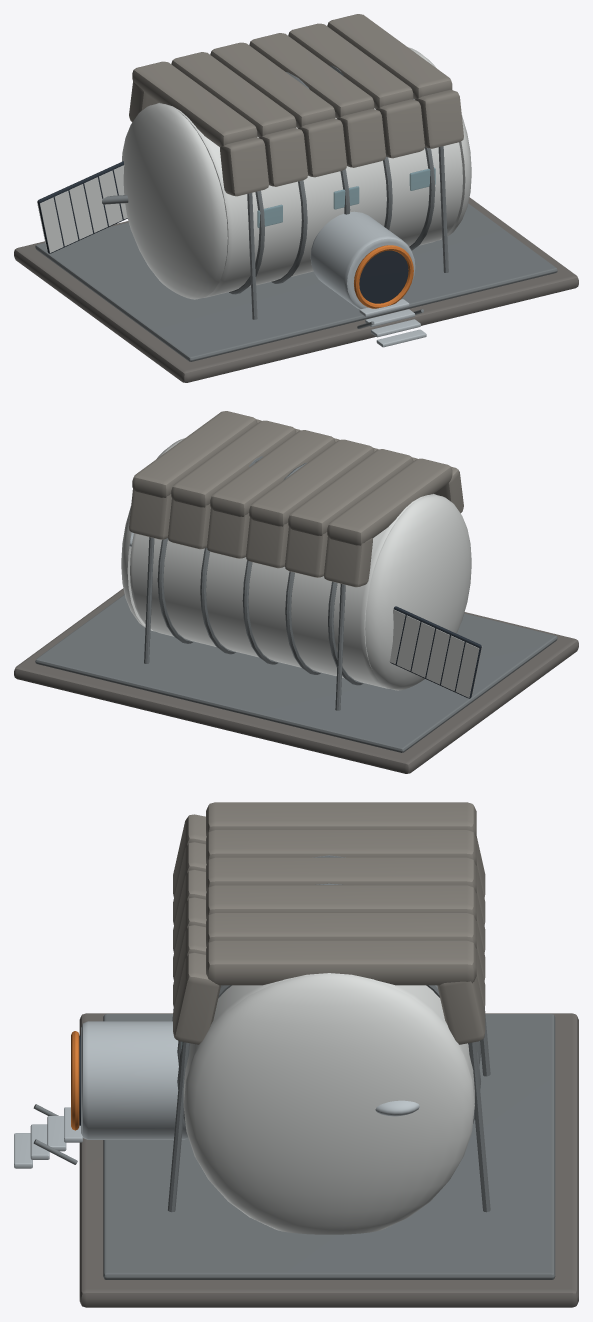
The model's file is habitat.glb.
3 views of the same model, one above another, from view 1: azimuth 30°, elevation 25°; view 2: azimuth 150°, elevation 25°; view 3: azimuth 270°, elevation 25° (orthographic). The views are drawn at different scales.
Visible parts, largest first — view 1: RenderBatch_Habitat_HAB_ThermalWhite, RenderBatch_Habitat_HAB_Frame, Habitat_Foundation, RenderBatch_Habitat_Shield_01_HAB_Regolith, RenderBatch_Habitat_HAB_Body, RenderBatch_Habitat_Shield_02_HAB_Regolith, RenderBatch_Habitat_Shield_06_HAB_Regolith, RenderBatch_Habitat_Shield_03_HAB_Regolith, RenderBatch_Habitat_Shield_05_HAB_Regolith, RenderBatch_Habitat_Shield_04_HAB_Regolith, Detail_Habitat_Radiator, Habitat_AirlockDoor (+2 smaller); view 2: RenderBatch_Habitat_HAB_ThermalWhite, RenderBatch_Habitat_HAB_Frame, Habitat_Foundation, RenderBatch_Habitat_Shield_01_HAB_Regolith, RenderBatch_Habitat_Shield_03_HAB_Regolith, RenderBatch_Habitat_Shield_06_HAB_Regolith, RenderBatch_Habitat_Shield_02_HAB_Regolith, RenderBatch_Habitat_Shield_05_HAB_Regolith, RenderBatch_Habitat_Shield_04_HAB_Regolith, Detail_Habitat_Radiator, Habitat_Radiator; view 3: RenderBatch_Habitat_HAB_ThermalWhite, RenderBatch_Habitat_HAB_Frame, Habitat_Foundation, RenderBatch_Habitat_Shield_06_HAB_Regolith, RenderBatch_Habitat_HAB_Body, RenderBatch_Habitat_Shield_05_HAB_Regolith, RenderBatch_Habitat_Shield_01_HAB_Regolith, RenderBatch_Habitat_Shield_04_HAB_Regolith, RenderBatch_Habitat_Shield_03_HAB_Regolith, RenderBatch_Habitat_Shield_02_HAB_Regolith, Habitat_AirlockSeal.
Part boxes in pixels (x1,y1,x2,y2): RenderBatch_Habitat_HAB_ThermalWhite: (121, 47, 471, 299); RenderBatch_Habitat_HAB_Frame: (35, 65, 557, 361); Habitat_Foundation: (14, 197, 578, 382); RenderBatch_Habitat_Shield_01_HAB_Regolith: (129, 61, 268, 196); RenderBatch_Habitat_HAB_Body: (310, 211, 426, 347); RenderBatch_Habitat_Shield_02_HAB_Regolith: (171, 52, 307, 186); RenderBatch_Habitat_Shield_06_HAB_Regolith: (327, 14, 463, 148); RenderBatch_Habitat_Shield_03_HAB_Regolith: (210, 42, 346, 177); RenderBatch_Habitat_Shield_05_HAB_Regolith: (288, 23, 424, 158); RenderBatch_Habitat_Shield_04_HAB_Regolith: (249, 33, 385, 167); Detail_Habitat_Radiator: (37, 165, 127, 252); Habitat_AirlockDoor: (359, 250, 408, 303); RenderBatch_Habitat_HAB_ThermalWhite: (121, 438, 471, 690); RenderBatch_Habitat_HAB_Frame: (35, 456, 557, 752); Habitat_Foundation: (14, 588, 578, 773); RenderBatch_Habitat_Shield_01_HAB_Regolith: (324, 458, 463, 587); RenderBatch_Habitat_Shield_03_HAB_Regolith: (246, 439, 378, 568); RenderBatch_Habitat_Shield_06_HAB_Regolith: (129, 411, 261, 539); RenderBatch_Habitat_Shield_02_HAB_Regolith: (285, 449, 417, 577); RenderBatch_Habitat_Shield_05_HAB_Regolith: (168, 420, 300, 549); RenderBatch_Habitat_Shield_04_HAB_Regolith: (207, 430, 339, 558); Detail_Habitat_Radiator: (389, 609, 482, 697); Habitat_Radiator: (390, 606, 481, 698); RenderBatch_Habitat_HAB_ThermalWhite: (183, 973, 474, 1234); RenderBatch_Habitat_HAB_Frame: (33, 855, 555, 1279); Habitat_Foundation: (79, 1013, 578, 1307); RenderBatch_Habitat_Shield_06_HAB_Regolith: (173, 940, 485, 1044); RenderBatch_Habitat_HAB_Body: (14, 1021, 419, 1168); RenderBatch_Habitat_Shield_05_HAB_Regolith: (173, 912, 485, 1008); RenderBatch_Habitat_Shield_01_HAB_Regolith: (173, 802, 485, 897); RenderBatch_Habitat_Shield_04_HAB_Regolith: (173, 885, 485, 980); RenderBatch_Habitat_Shield_03_HAB_Regolith: (173, 857, 485, 953); RenderBatch_Habitat_Shield_02_HAB_Regolith: (173, 830, 485, 925); Habitat_AirlockSeal: (71, 1031, 79, 1130).
Size of the model in its own units: 11.86 by 5.36 by 9.5.
